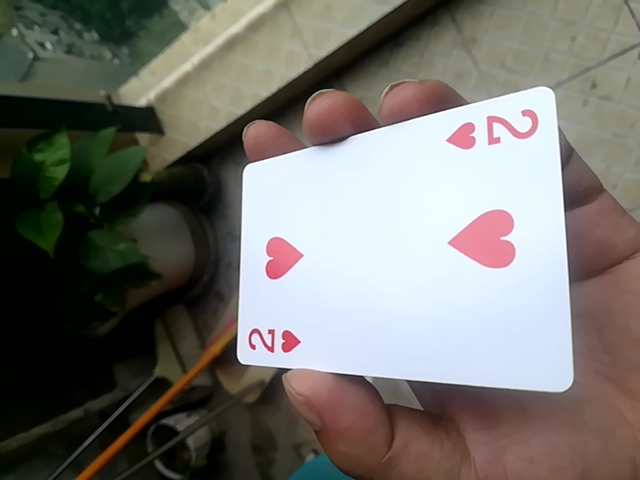hx 2: (225, 85, 574, 397)
